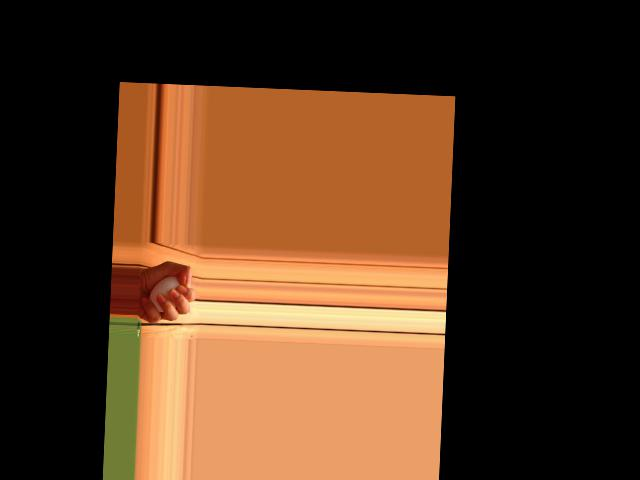egg: (148, 275, 179, 313)
